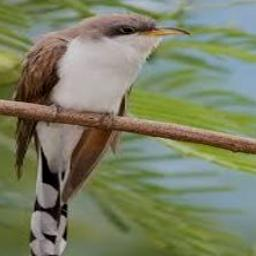Cuckoo: (14, 12, 190, 256)
